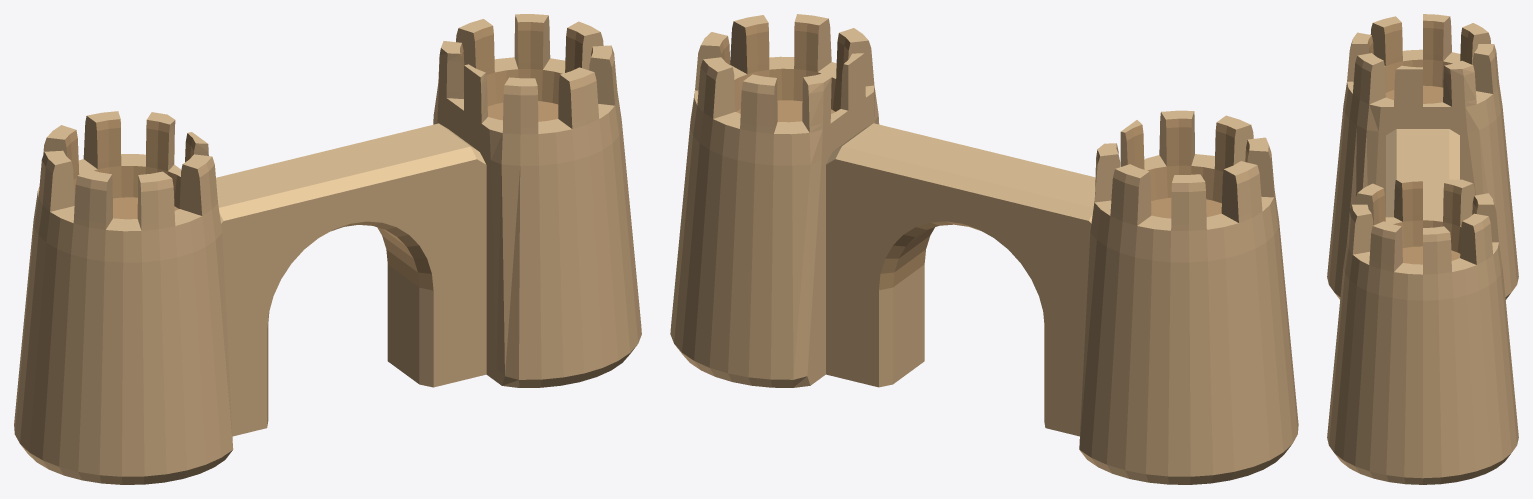
3 renders of one model, left to right at view 1: azimuth 30°, elevation 25°; view 2: azimuth 150°, elevation 25°; view 3: azimuth 270°, elevation 25°, orthographic. The views are drawn at different scales.
Visible parts, largest first — view 1: Sand_LeftTaperedCrenellatedTower, Sand_RightTaperedCrenellatedTower, Sand_ThickOpenArchWall; view 2: Sand_LeftTaperedCrenellatedTower, Sand_RightTaperedCrenellatedTower, Sand_ThickOpenArchWall; view 3: Sand_RightTaperedCrenellatedTower, Sand_LeftTaperedCrenellatedTower, Sand_ThickOpenArchWall.
Boxes of the visible parts, x1=… form: Sand_LeftTaperedCrenellatedTower: x1=14, y1=111, x2=233, y2=484; Sand_RightTaperedCrenellatedTower: x1=433, y1=14, x2=641, y2=387; Sand_ThickOpenArchWall: x1=216, y1=123, x2=486, y2=436; Sand_LeftTaperedCrenellatedTower: x1=1079, y1=110, x2=1298, y2=484; Sand_RightTaperedCrenellatedTower: x1=670, y1=14, x2=879, y2=387; Sand_ThickOpenArchWall: x1=826, y1=123, x2=1095, y2=436; Sand_RightTaperedCrenellatedTower: x1=1327, y1=179, x2=1518, y2=484; Sand_LeftTaperedCrenellatedTower: x1=1327, y1=14, x2=1518, y2=299; Sand_ThickOpenArchWall: x1=1386, y1=129, x2=1459, y2=217.
Size of the model in its own units: 3.16 by 1.48 by 1.06.
